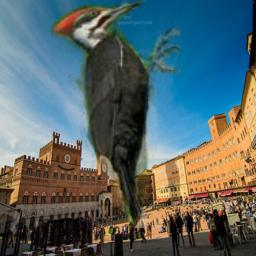Woodpecker: (51, 0, 181, 228)
